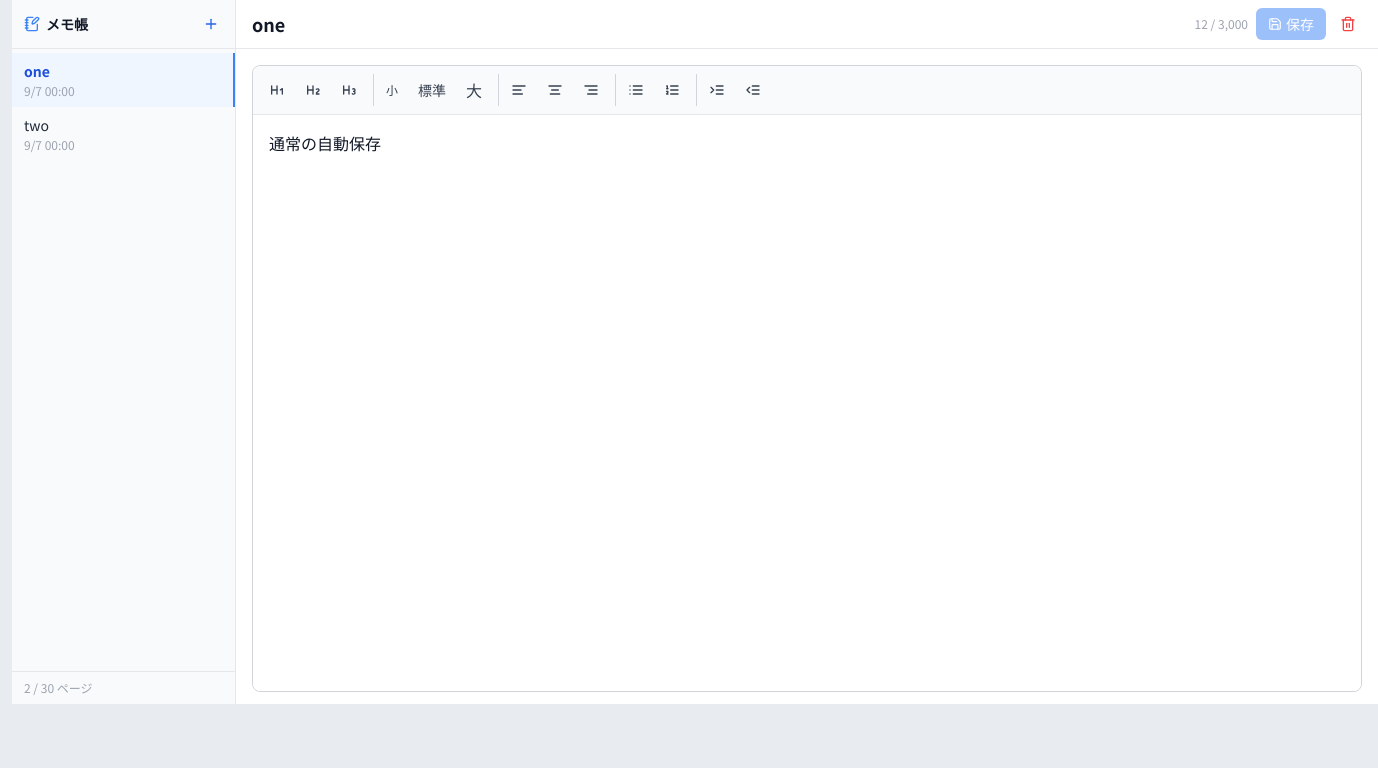
routine autosave still waits two seconds and marks the latest edit saved
Clear the text box labelled "通常の自動保存". click: (807, 403)
box: top-left (253, 115), bottom-right (1361, 691)
Wait 2000 ms
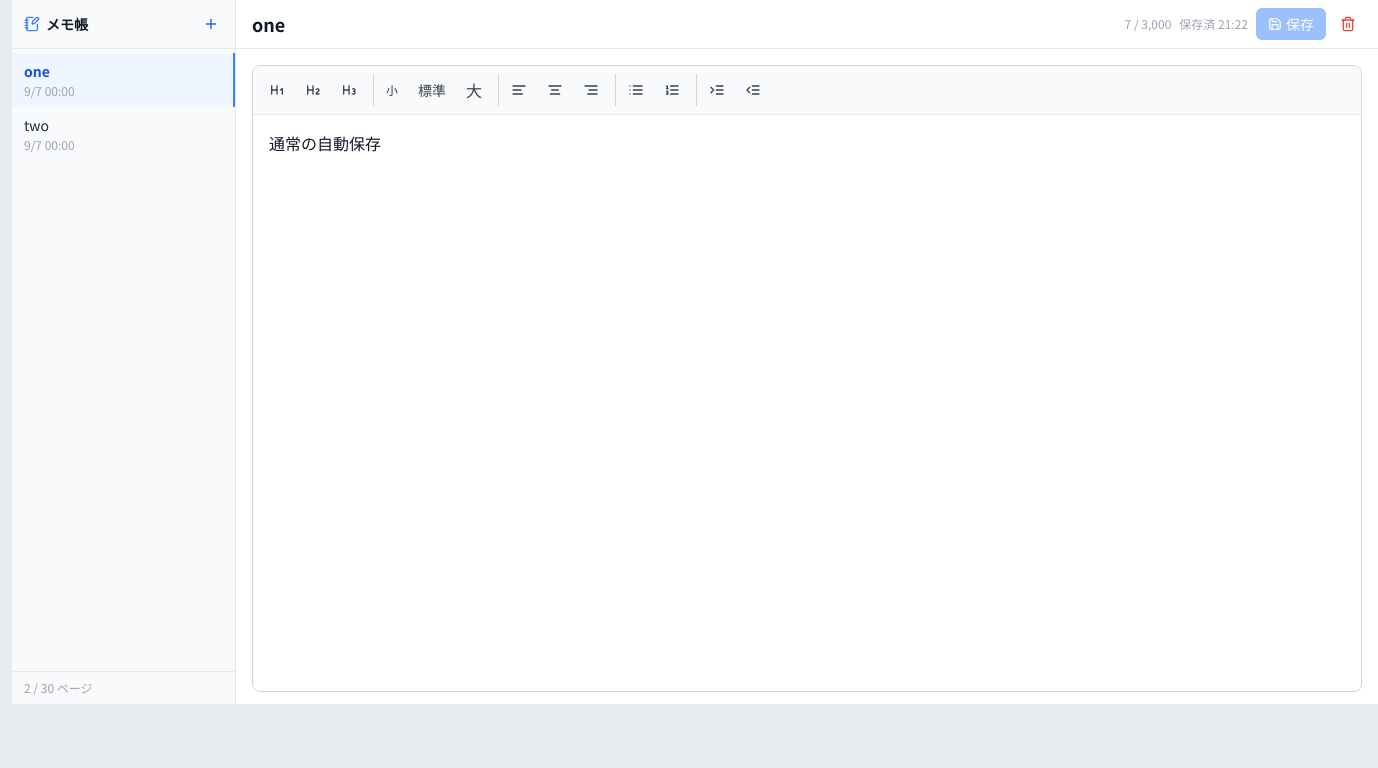
Check: the text "保存済" is shown, box top-left (1179, 15), bottom-right (1218, 32)
